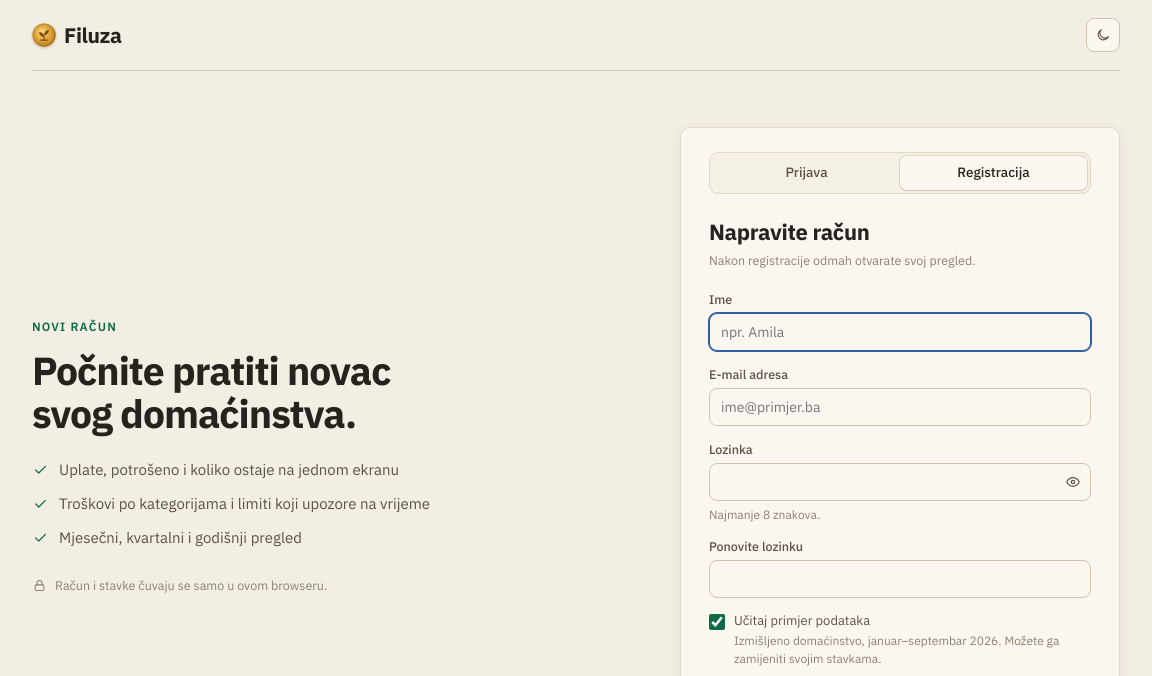
Test: registracija › uspješna registracija otvara dashboard s primjerom podataka
The width and height of the screenshot is (1152, 676).
Type "Amila Hodžić" into the field labelled "Ime" at (900, 332), box top-left (709, 313), bottom-right (1091, 351)
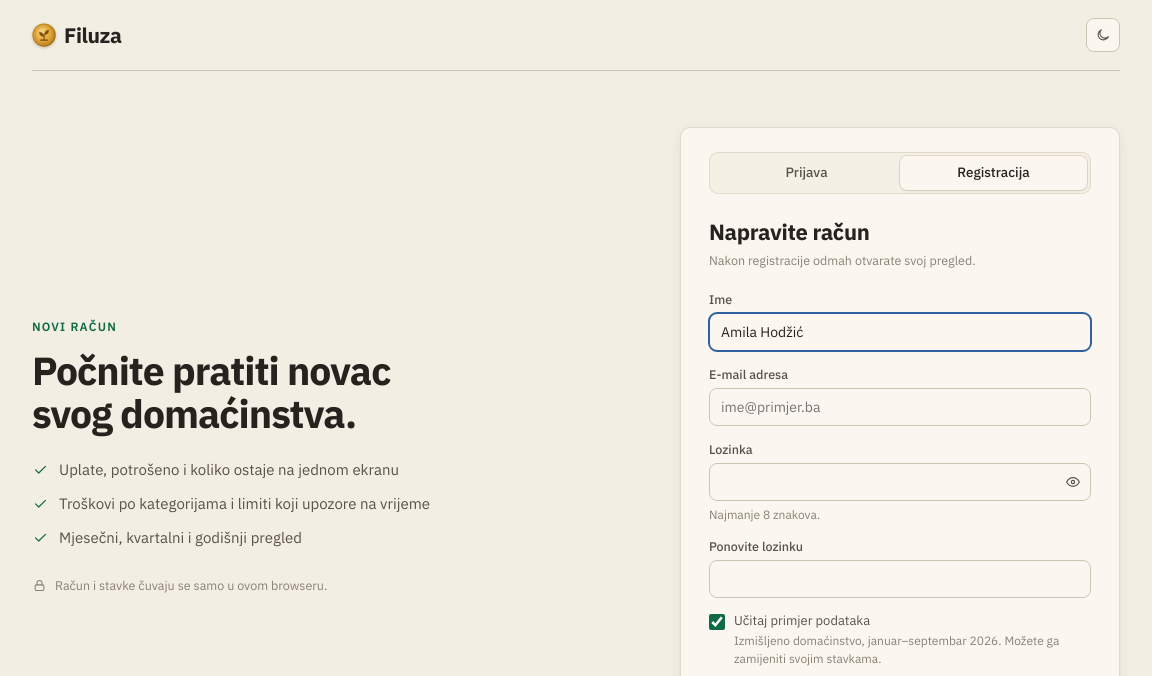
Type "amila@primjer.ba" into the field labelled "E-mail adresa" at (900, 407), box top-left (709, 388), bottom-right (1091, 426)
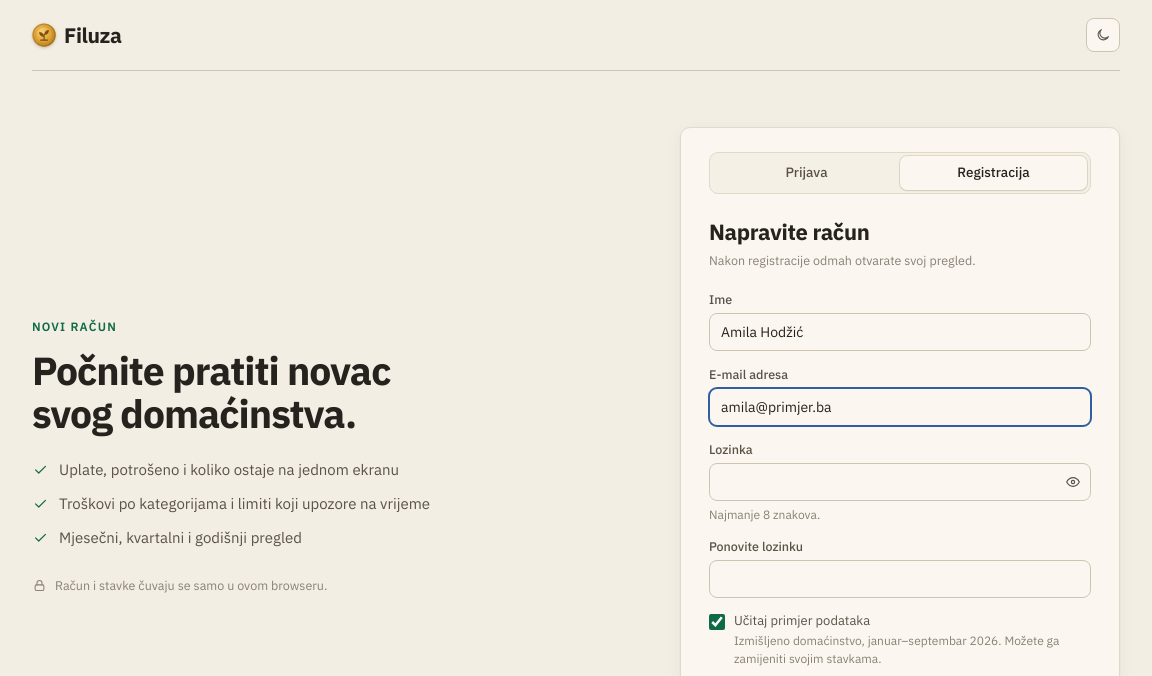
Type "tajna1234" into the password field labelled "Lozinka" at (900, 482), box top-left (709, 463), bottom-right (1091, 501)
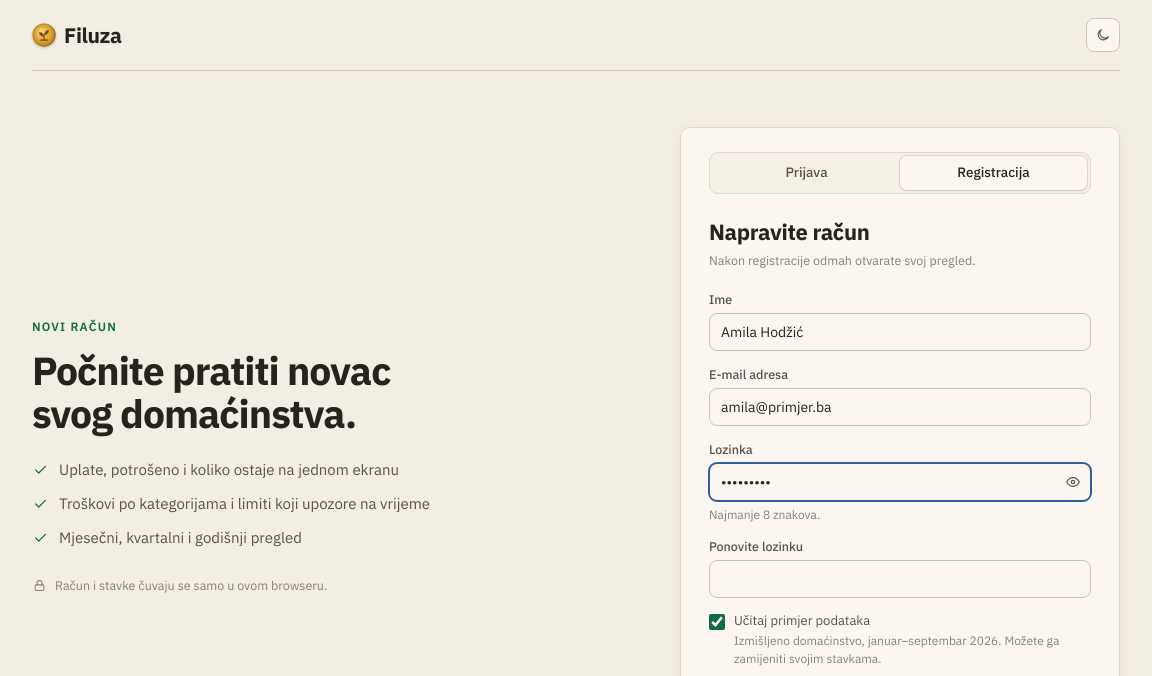
Type "tajna1234" into the password field labelled "Ponovite lozinku" at (900, 580), box top-left (709, 560), bottom-right (1091, 598)
(page scrolled)
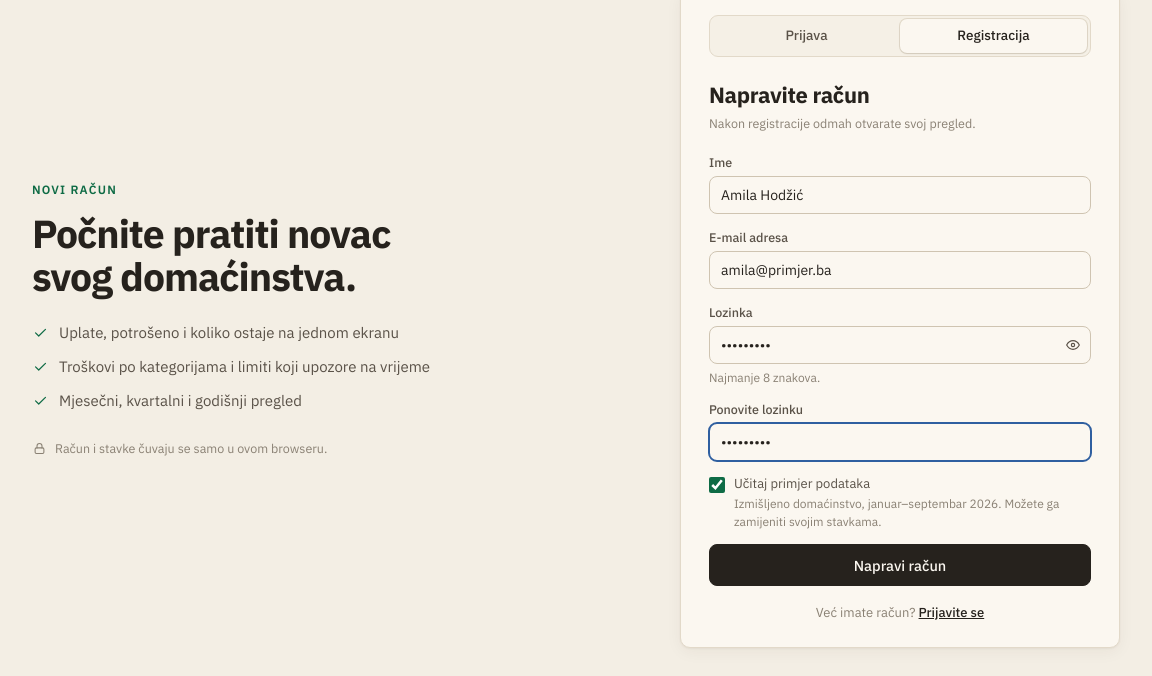
Click the button "Napravi račun" at (900, 565), box top-left (709, 544), bottom-right (1091, 586)
(page scrolled)
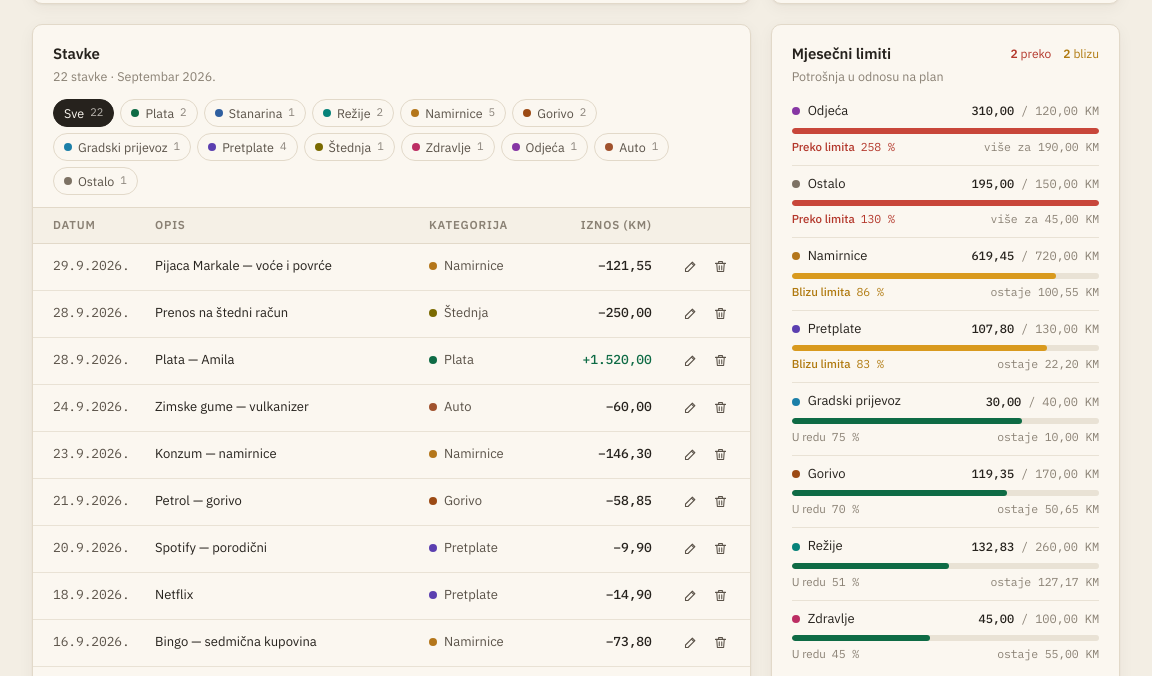
Expected: the text "Plata — Amila" is shown, top-left (143, 337), bottom-right (417, 384)
